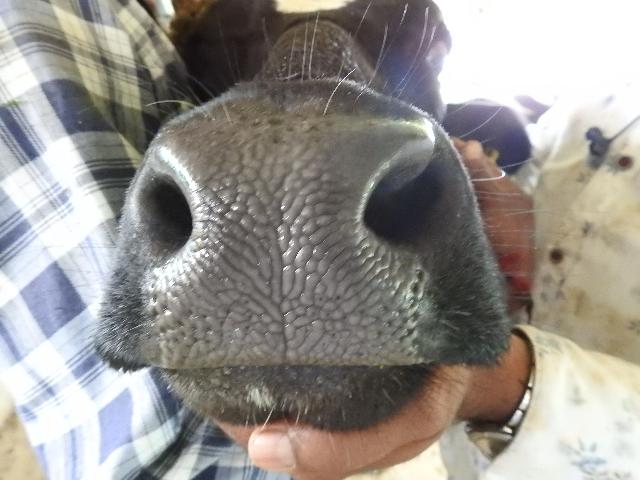Muzzle: (176, 139, 368, 363)
